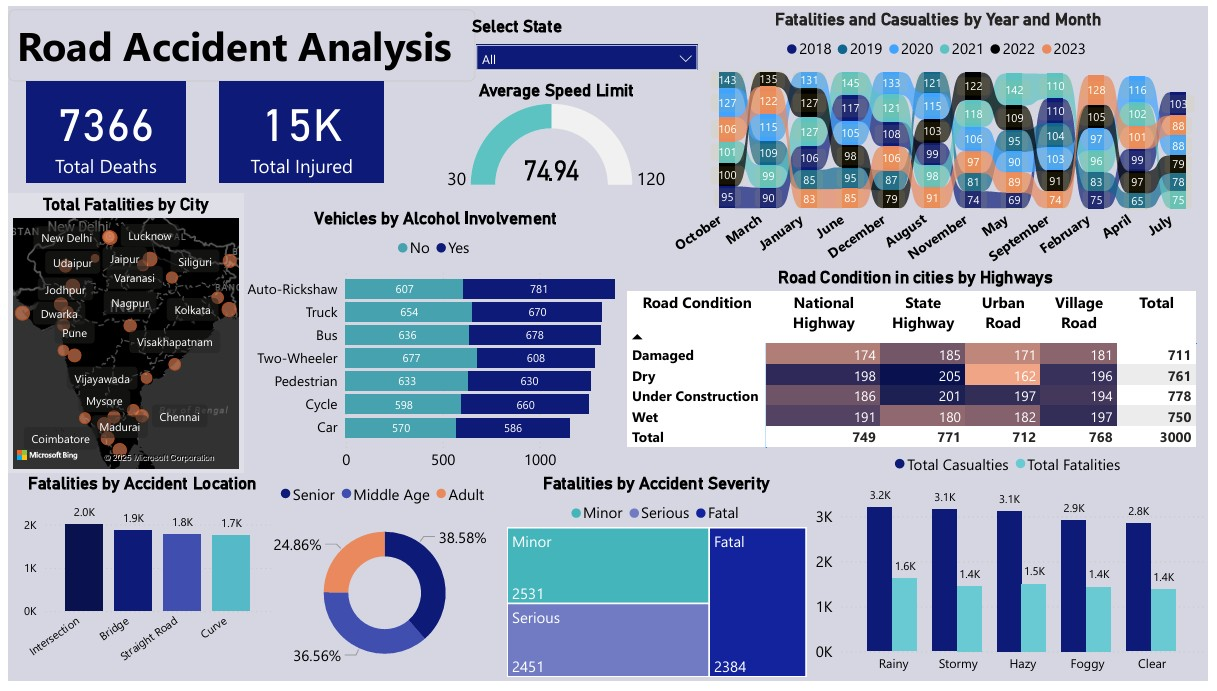

The page's visual inventory and layout, read from the dashboard file:
{"tool":"powerbi","page":{"name":"Page 1","canvas":[1280,720],"ordinal":0},"visuals":[{"type":"treemap","title":"Fatalities by Accident Severity","fields":{"Group":["accident_prediction_india.Accident Severity","accident_prediction_india.Alcohol Involvement"],"Values":["Sum(accident_prediction_india.Number of Fatalities)"]},"box":[527.4,497.6,328.4,222.7],"z":0},{"type":"ribbonChart","title":"Fatalities and Casualties by Year and Month","fields":{"Category":["accident_prediction_india.Month"],"Y":["Sum(accident_prediction_india.Number of Fatalities)"],"Series":["accident_prediction_india.Year"]},"box":[703.8,2.5,576.2,291.2],"z":1000},{"type":"map","title":"Total Fatalities by City","fields":{"Size":["Sum(accident_prediction_india.Number of Fatalities)"],"Category":["accident_prediction_india.City Name"]},"box":[0,200,251.2,297.5],"z":2000},{"type":"clusteredColumnChart","fields":{"Category":["accident_prediction_india.Weather Conditions"],"Y":["Sum(accident_prediction_india.Number of Casualties)","Sum(accident_prediction_india.Number of Fatalities)"]},"box":[855.8,466.5,424.2,253.8],"z":3000},{"type":"pivotTable","title":"Road Condition in cities by Highways","fields":{"Rows":["accident_prediction_india.Road Condition"],"Values":["CountNonNull(accident_prediction_india.City Name)"],"Columns":["accident_prediction_india.Road Type"]},"box":[655,277.5,625,211.2],"z":4000},{"type":"columnChart","title":"Fatalities by Accident Location","fields":{"Category":["accident_prediction_india.Accident Location Details"],"Y":["Sum(accident_prediction_india.Number of Fatalities)"]},"box":[0,497.5,286.2,222.5],"z":5000},{"type":"barChart","title":"Vehicles by Alcohol Involvement","fields":{"Category":["accident_prediction_india.Vehicle Type Involved"],"Y":["Sum(accident_prediction_india.Number of Vehicles Involved)"],"Series":["accident_prediction_india.Alcohol Involvement"]},"box":[241.2,215,428.8,290],"z":6000},{"type":"donutChart","title":"Driver Age","fields":{"Category":["accident_prediction_india.Age Category"],"Y":["Sum(accident_prediction_india.Number of Fatalities)"]},"box":[274.9,497.6,252.5,222.7],"z":7000},{"type":"gauge","title":"Average Speed Limit ","fields":{"Y":["Avg(accident_prediction_india.Speed Limit (km/h))"],"MinValue":["Min(accident_prediction_india.Speed Limit (km/h))1"],"MaxValue":["Max(accident_prediction_india.Speed Limit (km/h))2"]},"box":[440,77.5,288.8,122.5],"z":8000},{"type":"textbox","box":[0,2.5,497.5,77.5],"z":9000},{"type":"card","fields":{"Values":["Sum(accident_prediction_india.Number of Fatalities)"]},"box":[18.8,80,170,107.5],"z":10000},{"type":"card","fields":{"Values":["Sum(accident_prediction_india.Number of Casualties)"]},"box":[225,80,176.2,107.5],"z":11000},{"type":"slicer","title":"Select State","fields":{"Values":["accident_prediction_india.State Name"]},"box":[488.8,10,256.2,62.5],"z":12000}]}

Visuals, with their boxes in screenshot pixels (x1, y1, x2, y2), scaled from the page's 1280x720 canvas onto the 1217x691 screenshot:
"Fatalities by Accident Severity" treemap: {"x1": 501, "y1": 478, "x2": 814, "y2": 690}
"Fatalities and Casualties by Year and Month" ribbonChart: {"x1": 669, "y1": 2, "x2": 1216, "y2": 282}
"Total Fatalities by City" map: {"x1": 0, "y1": 192, "x2": 239, "y2": 477}
clusteredColumnChart - accident_prediction_india.Weather Conditions x Sum(accident_prediction_india.Number of Casualties): {"x1": 814, "y1": 448, "x2": 1216, "y2": 690}
"Road Condition in cities by Highways" pivotTable: {"x1": 623, "y1": 266, "x2": 1216, "y2": 469}
"Fatalities by Accident Location" columnChart: {"x1": 0, "y1": 477, "x2": 272, "y2": 690}
"Vehicles by Alcohol Involvement" barChart: {"x1": 229, "y1": 206, "x2": 637, "y2": 485}
"Driver Age" donutChart: {"x1": 261, "y1": 478, "x2": 501, "y2": 690}
"Average Speed Limit " gauge: {"x1": 418, "y1": 74, "x2": 693, "y2": 192}
textbox: {"x1": 0, "y1": 2, "x2": 473, "y2": 77}
card - Sum(accident_prediction_india.Number of Fatalities): {"x1": 18, "y1": 77, "x2": 180, "y2": 180}
card - Sum(accident_prediction_india.Number of Casualties): {"x1": 214, "y1": 77, "x2": 381, "y2": 180}
"Select State" slicer: {"x1": 465, "y1": 10, "x2": 708, "y2": 70}
